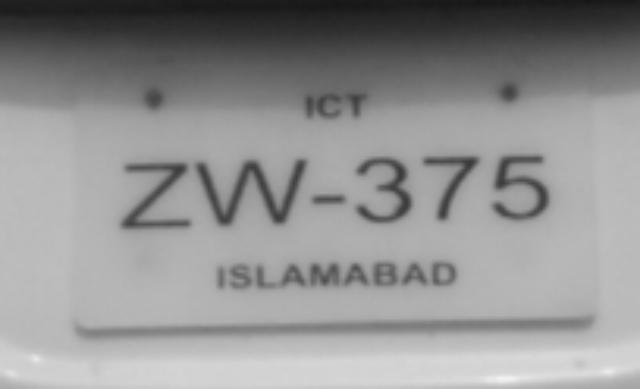Number: (116, 148, 558, 238)
